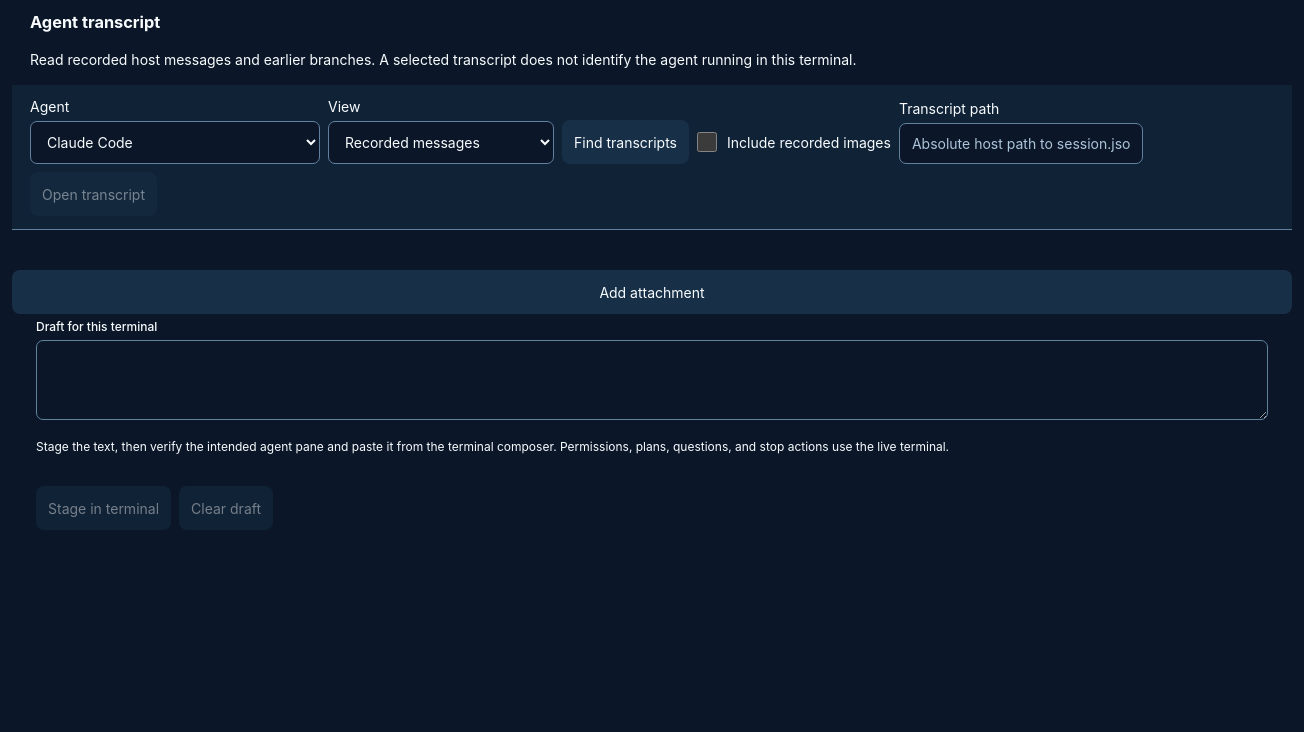
Scenario: pauses hidden/page-hidden reads, drops late hidden results and resumes at the completion interval
Type "/host/claude.jsonl" into the field labelled "Transcript path".
click(1021, 144); type("/host/claude.jsonl")  # box [899,124,1143,164]
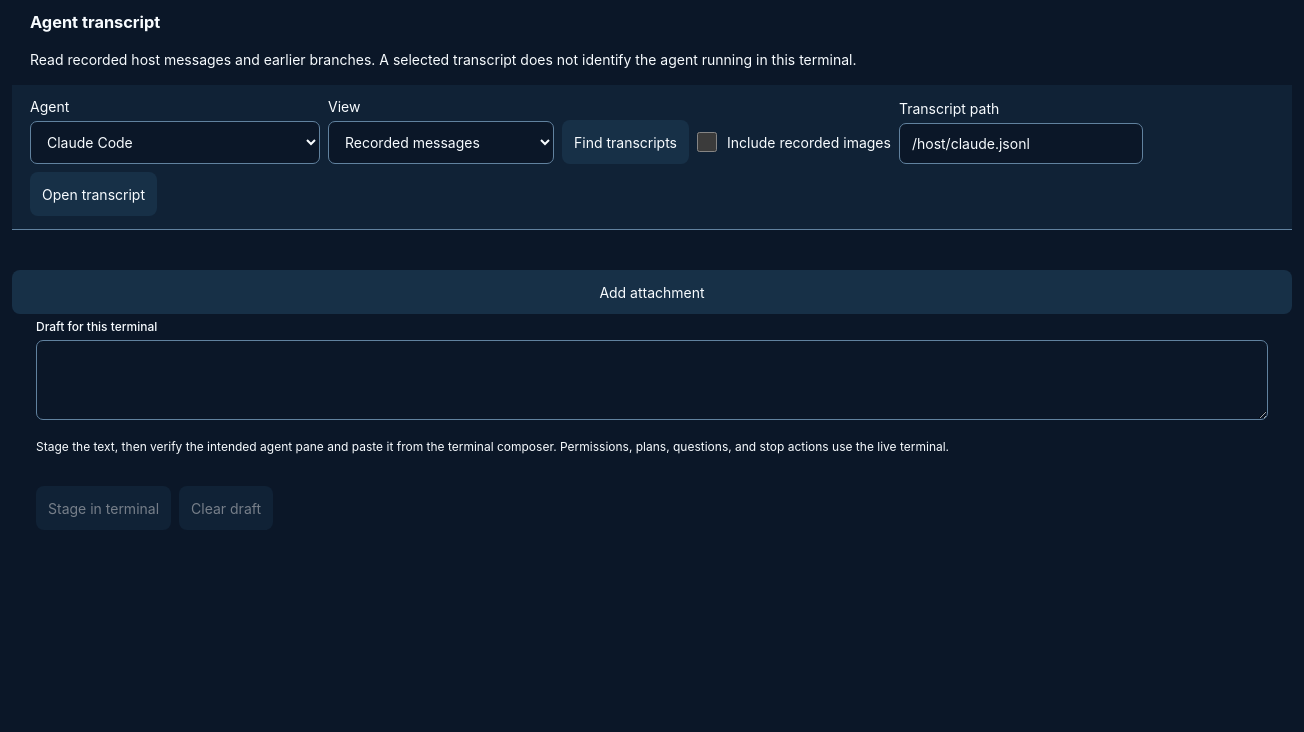
Select "Latest conversation branch" in the dropdown labelled "View" at (441, 143), box [328,122,554,164]
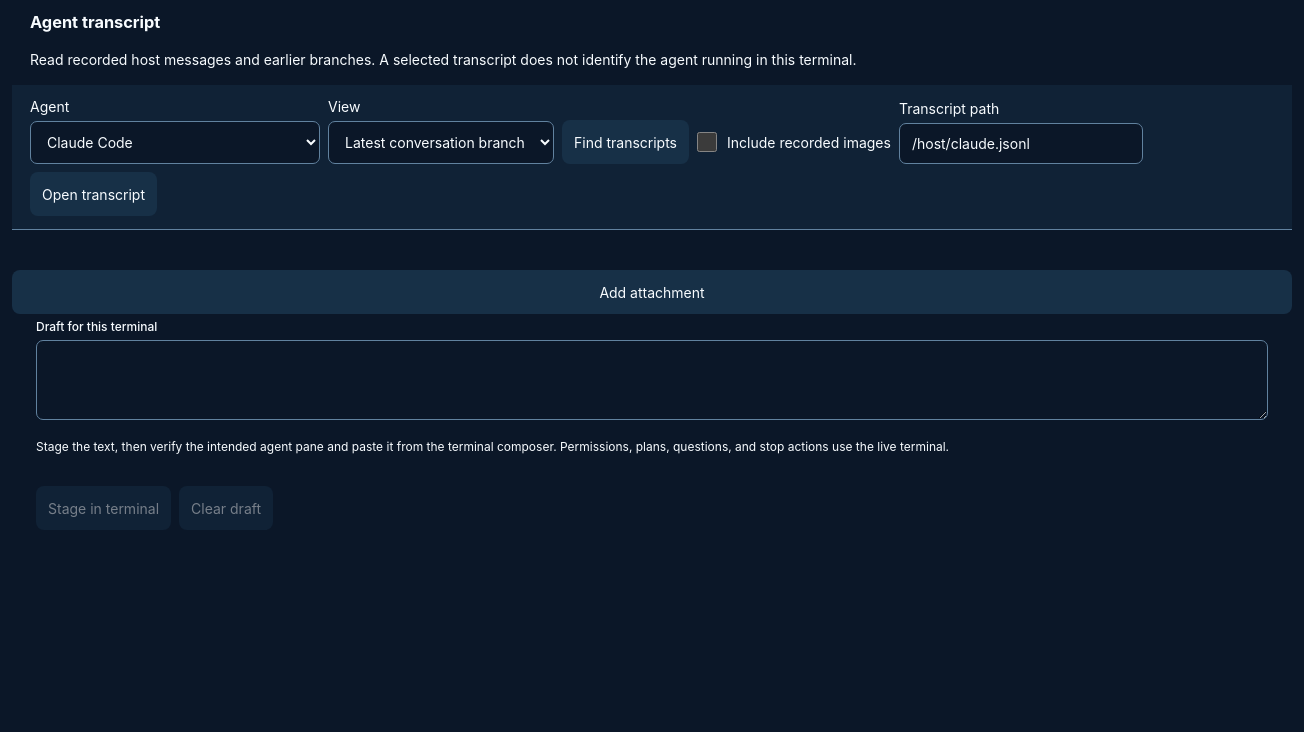
Click the button "Open transcript".
click(94, 194)  # box [30,172,157,216]
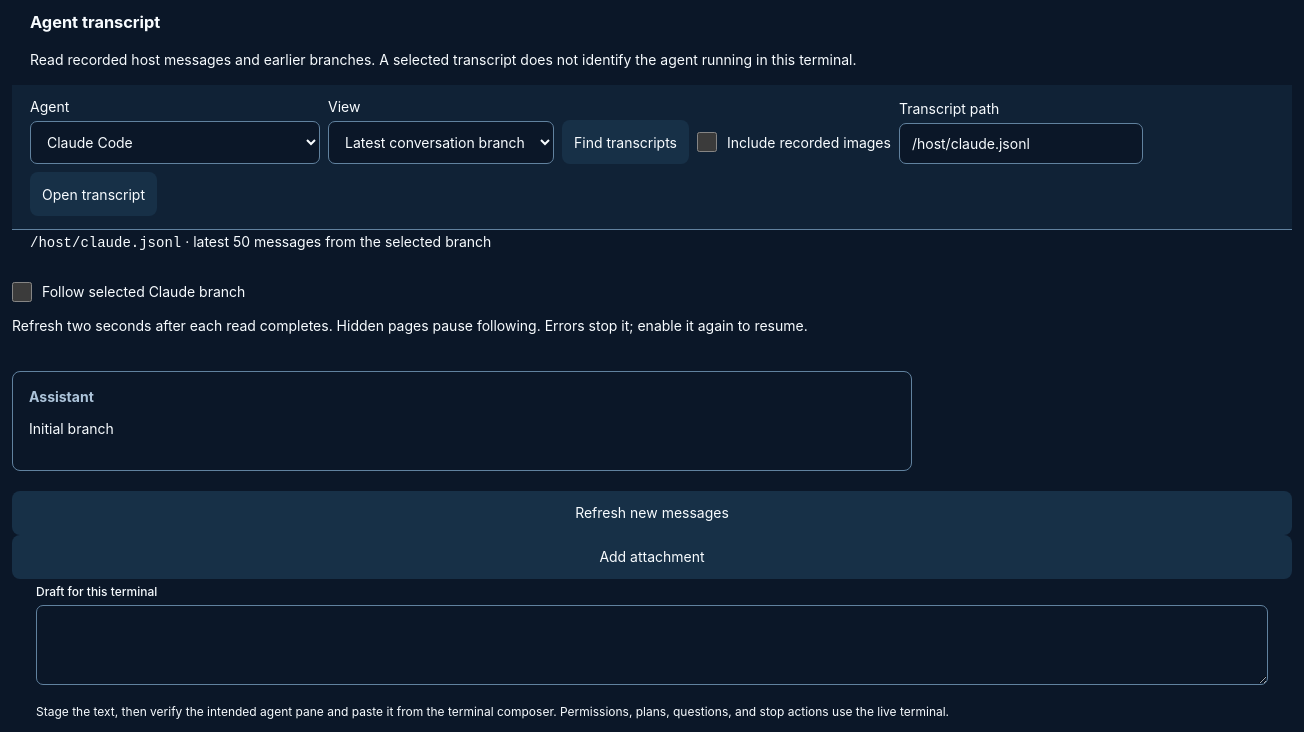
Click the checkbox labelled "Follow selected Claude branch".
click(22, 292)  # box [12,282,32,302]
Wait 44000 ms
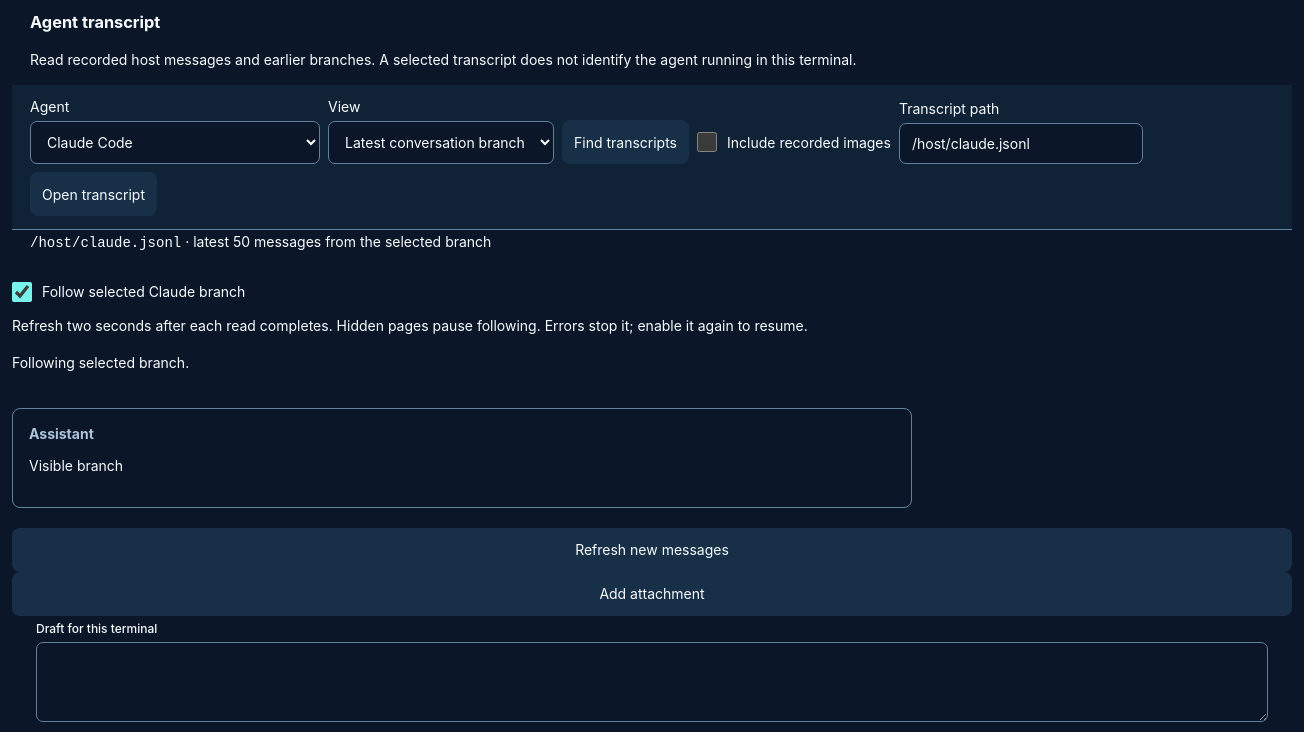
Expected: the text "Visible branch" is shown, [29,457,123,474]
